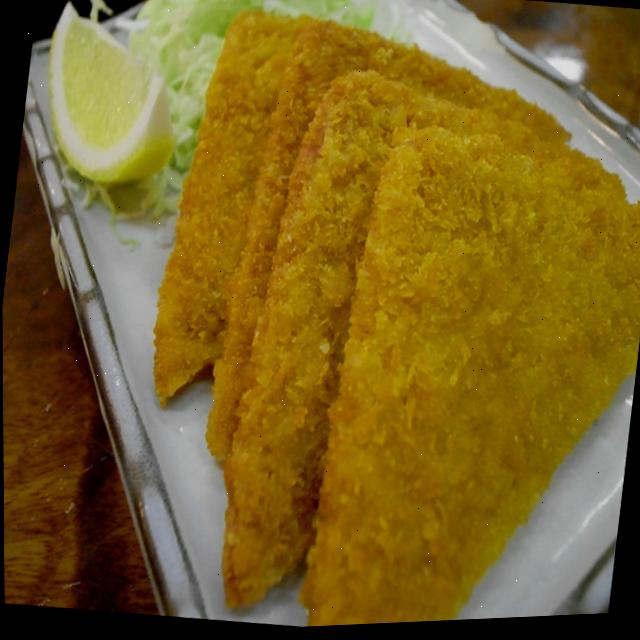炸货点心: (106, 0, 640, 636)
